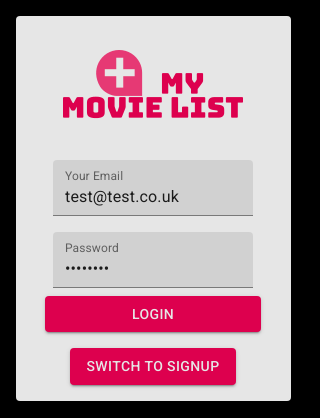
Test: Button changes to the signup form
Step 1. Click the button "SWITCH TO SIGNUP" → (153,366), box x1=70 y1=348 x2=236 y2=384
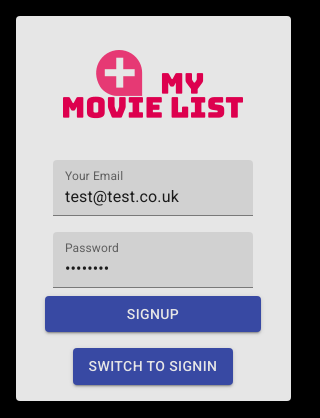
Check: the button "SWITCH TO SIGNIN" is shown, box x1=73 y1=348 x2=233 y2=384
Check: the button "SIGNUP" is shown, box x1=45 y1=296 x2=261 y2=332
